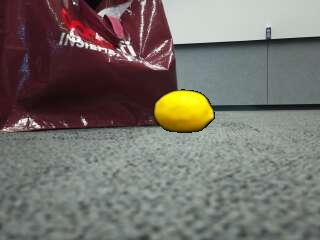lemon: (154, 91, 212, 133)
